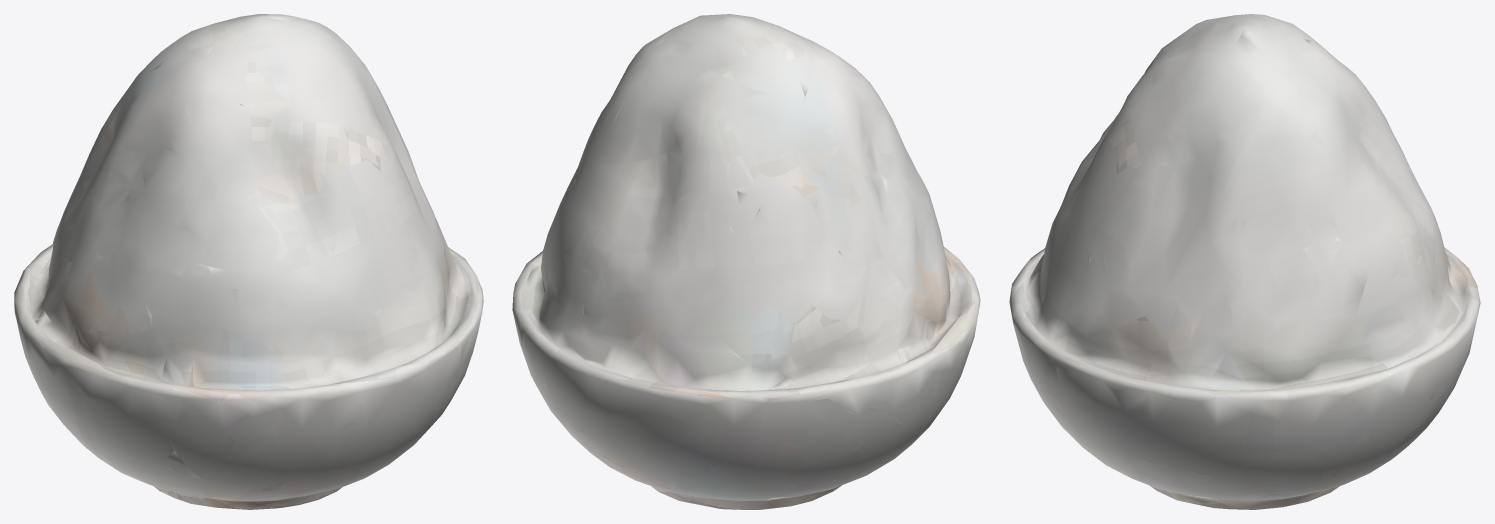
Rendered from KR_사물_s1_food_ice_base.glb.
3 renders of one model, left to right at view 1: azimuth 30°, elevation 25°; view 2: azimuth 150°, elevation 25°; view 3: azimuth 270°, elevation 25°, orthographic.
Parts seen in each view (by area): view 1: tripo_node_1b310661-e23d-4f52-8347-49730ed672a5; view 2: tripo_node_1b310661-e23d-4f52-8347-49730ed672a5; view 3: tripo_node_1b310661-e23d-4f52-8347-49730ed672a5.
Boxes of the visible parts, <box> form: tripo_node_1b310661-e23d-4f52-8347-49730ed672a5: <box>14,14,483,509</box>; tripo_node_1b310661-e23d-4f52-8347-49730ed672a5: <box>512,14,980,509</box>; tripo_node_1b310661-e23d-4f52-8347-49730ed672a5: <box>1009,14,1480,509</box>.
Size of the model in its own units: 0.9566 by 0.9995 by 0.9581.
Materials: 1 (1 with a texture image).
